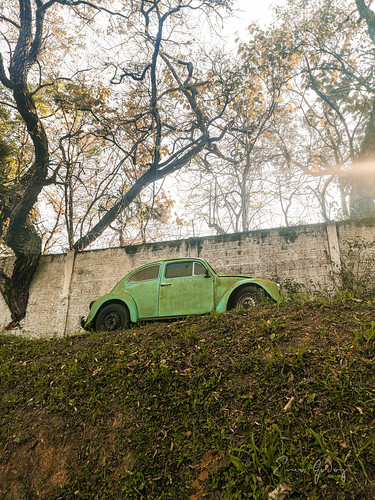car: (78, 251, 291, 340)
grass: (7, 318, 375, 500)
vegetation: (10, 1, 375, 248)
